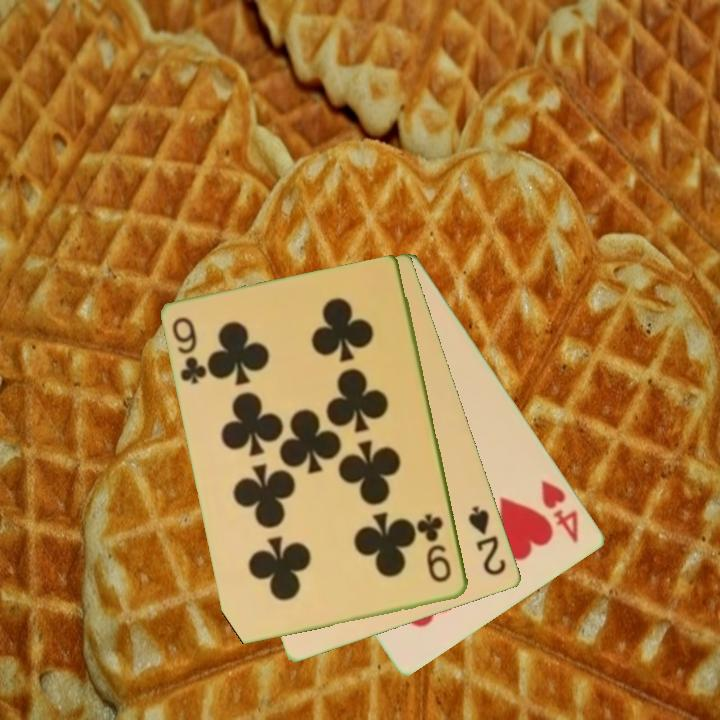2s: (465, 502, 510, 579)
4h: (538, 476, 582, 546)
9c: (169, 314, 210, 388), (416, 510, 455, 586)
